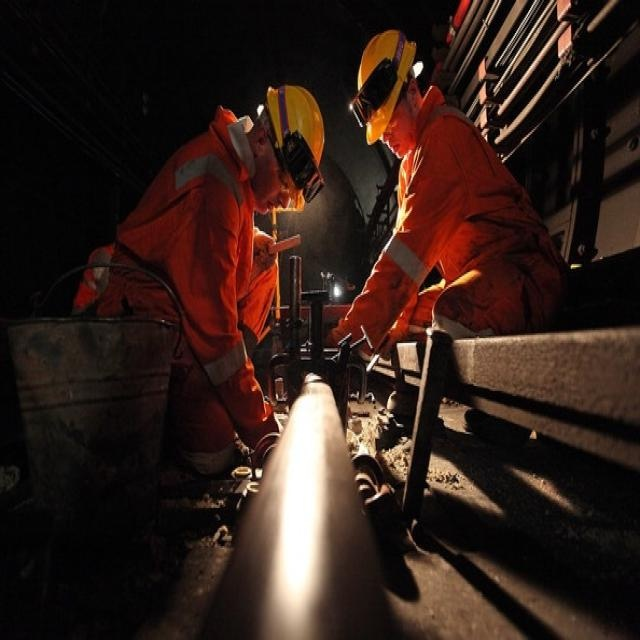Con_Casco: (255, 82, 325, 210), (356, 31, 424, 154)
